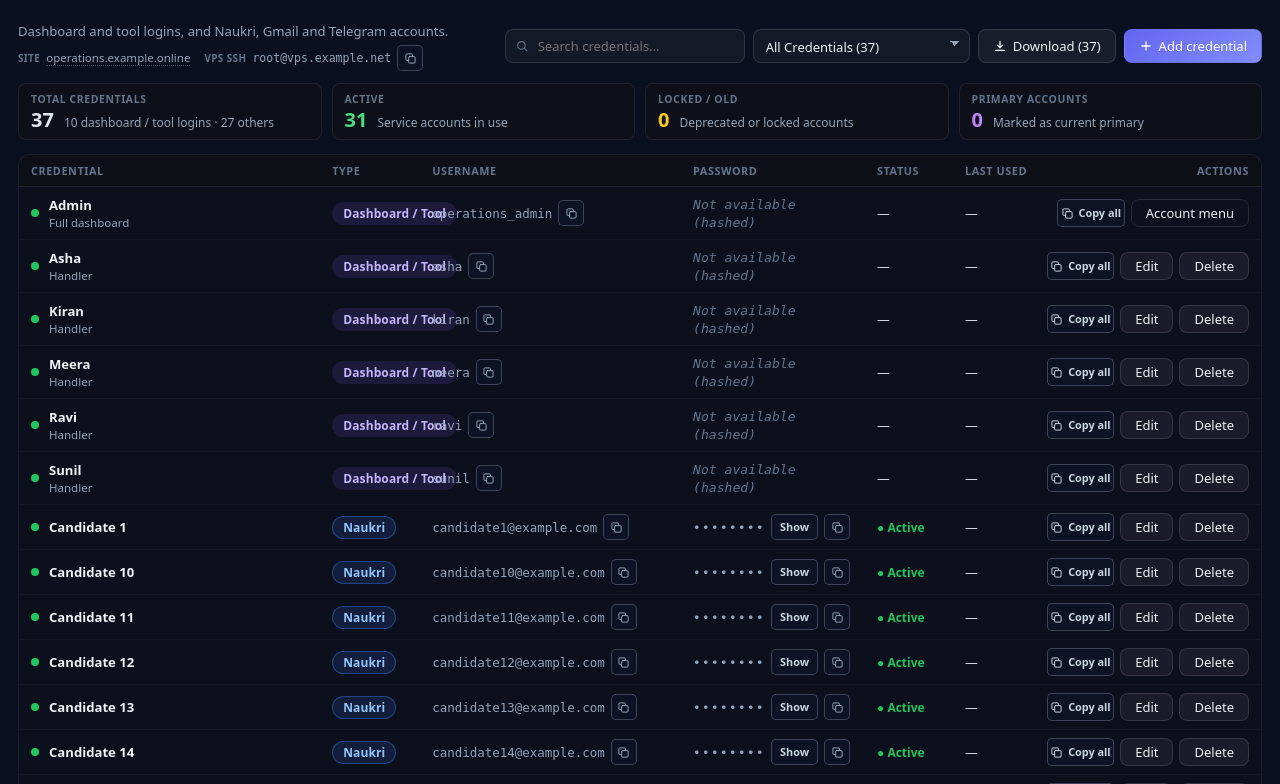
Test: the one table › counts tool logins under Dashboard / Tool Logins, once each, with no Tool option of its own
Select "Dashboard / Tool Logins (10)" in the dropdown named "Credential type" at [861, 46], box [753,28,970,62]
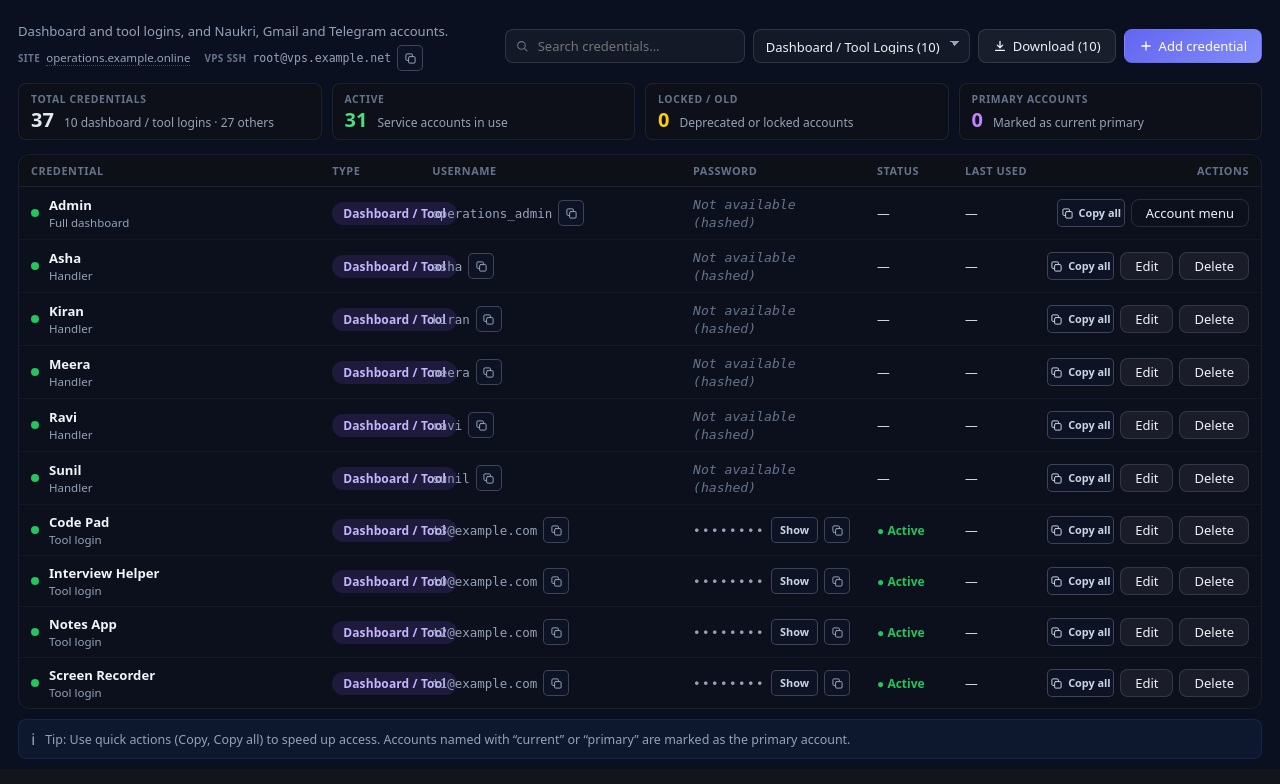
Now the text with class "dr-acct-svc" in the row of "Code Pad" reads "Dashboard / Tool", box [343,522,446,538]
Now the text with class "dr-acct-svc" in the row of "Interview Helper" reads "Dashboard / Tool", box [343,572,446,590]
Now the text with class "dr-acct-svc" in the row of "Notes App" reads "Dashboard / Tool", box [343,624,446,640]
